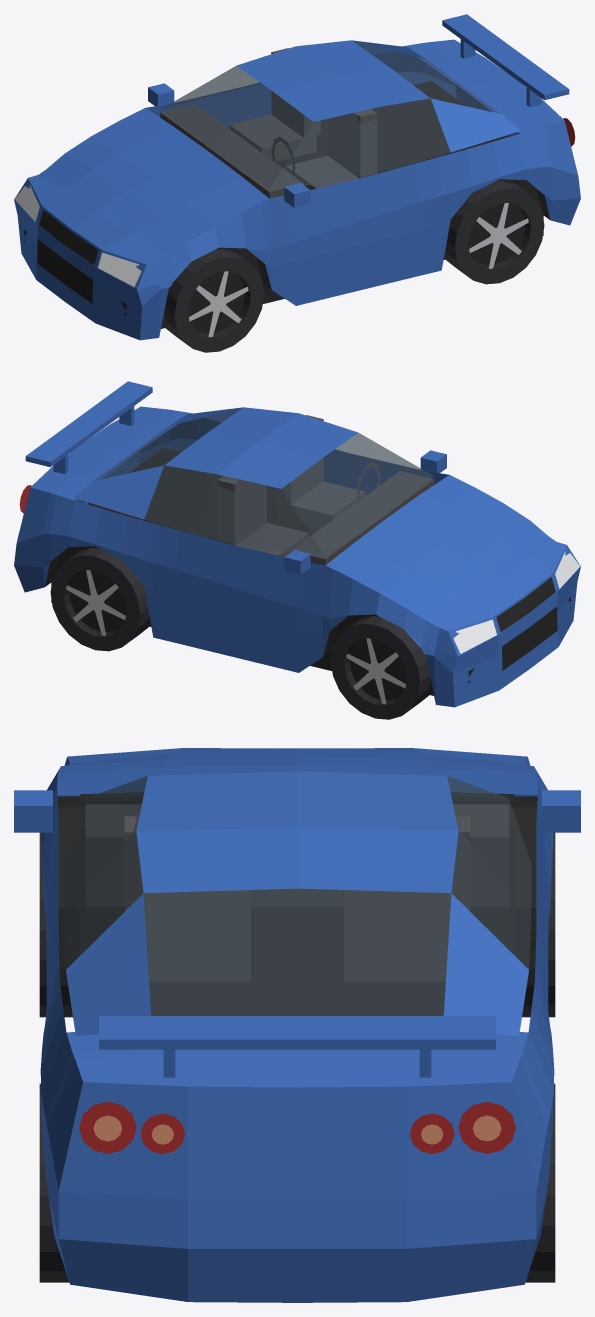
The model's file is r34_chibi.glb.
3 views of the same model, one above another, from view 1: azimuth 30°, elevation 25°; view 2: azimuth 150°, elevation 25°; view 3: azimuth 270°, elevation 25° (orthographic). The views are drawn at different scales.
Visible parts, largest first — view 1: r34_bonnet, r34_door, r34_roof, r34_glass_side, r34_quarter, r34_glass_front, r34_bumper_front, r34_cabin_floor, r34_boot_lid, r34_tyre_FR, r34_tyre_RR, r34_dash (+17 smaller); view 2: r34_bonnet, r34_door, r34_roof, r34_glass_side, r34_quarter, r34_glass_front, r34_bumper_front, r34_cabin_floor, r34_boot_lid, r34_tyre_FL, r34_tyre_RL, r34_dash (+17 smaller); view 3: r34_roof, r34_bumper_rear, r34_tail_panel, r34_glass_rear, r34_cabin_floor, r34_glass_side, r34_boot_lid, r34_bonnet, r34_wing, r34_seat_L, r34_seat_R, r34_dash (+15 smaller).
Part boxes in pixels (bbox=[...]): r34_bonnet: bbox=[28, 108, 268, 264]; r34_door: bbox=[146, 82, 418, 305]; r34_roof: bbox=[236, 40, 521, 152]; r34_glass_side: bbox=[162, 66, 450, 188]; r34_quarter: bbox=[373, 51, 551, 275]; r34_glass_front: bbox=[161, 66, 312, 188]; r34_bumper_front: bbox=[14, 200, 160, 340]; r34_cabin_floor: bbox=[161, 81, 543, 328]; r34_boot_lid: bbox=[402, 39, 564, 133]; r34_tyre_FR: bbox=[164, 249, 263, 352]; r34_tyre_RR: bbox=[445, 180, 544, 284]; r34_dash: bbox=[160, 104, 304, 198]; r34_bonnet: bbox=[326, 475, 566, 631]; r34_door: bbox=[176, 449, 448, 672]; r34_roof: bbox=[73, 407, 358, 519]; r34_glass_side: bbox=[144, 433, 432, 555]; r34_quarter: bbox=[43, 418, 221, 642]; r34_glass_front: bbox=[282, 433, 433, 555]; r34_bumper_front: bbox=[434, 567, 580, 707]; r34_cabin_floor: bbox=[51, 448, 433, 695]; r34_boot_lid: bbox=[30, 406, 192, 500]; r34_tyre_FL: bbox=[331, 616, 430, 719]; r34_tyre_RL: bbox=[50, 547, 149, 651]; r34_dash: bbox=[290, 471, 434, 565]; r34_roof: bbox=[66, 771, 528, 1035]; r34_bumper_rear: bbox=[48, 1131, 546, 1302]; r34_tail_panel: bbox=[48, 1059, 546, 1199]; r34_glass_rear: bbox=[143, 888, 451, 1015]; r34_cabin_floor: bbox=[80, 792, 514, 1015]; r34_glass_side: bbox=[63, 776, 531, 969]; r34_boot_lid: bbox=[66, 1032, 528, 1087]; r34_bonnet: bbox=[57, 748, 537, 794]; r34_wing: bbox=[99, 1016, 495, 1049]; r34_seat_L: bbox=[344, 816, 470, 981]; r34_seat_R: bbox=[124, 816, 250, 981]; r34_dash: bbox=[85, 804, 509, 906].
Size of the model in its own units: 3.81 by 1.43 by 2.07.
